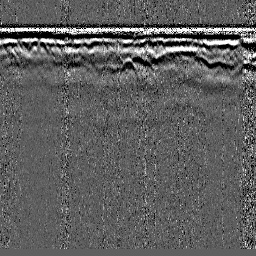cavity: (115, 56, 141, 80)
